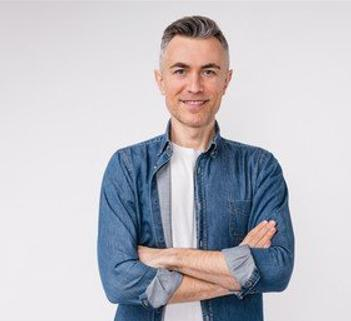Sober: (166, 34, 226, 128)
